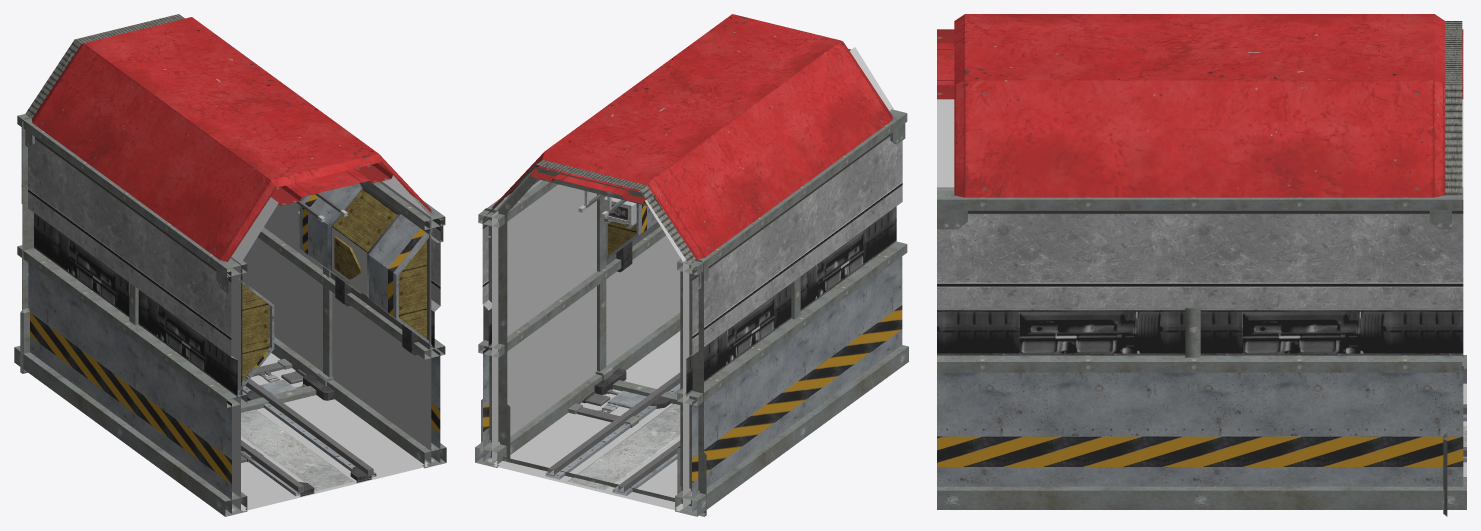
Rendered from Ob_TunnelWithArrows_RC.fbx.
The picture shows the model from 3 angles, left to right: view 1: azimuth 30°, elevation 25°; view 2: azimuth 150°, elevation 25°; view 3: azimuth 270°, elevation 25°; orthographic projection. The views are drawn at different scales.
Visible parts, largest first — view 1: Ob_TunnelWithArrows_RC; view 2: Ob_TunnelWithArrows_RC; view 3: Ob_TunnelWithArrows_RC.
Part boxes in pixels (box(x1,y1,x2,y2)): Ob_TunnelWithArrows_RC: box(14, 14, 446, 516); Ob_TunnelWithArrows_RC: box(475, 14, 908, 516); Ob_TunnelWithArrows_RC: box(937, 14, 1466, 516).
Bounding box in the file's own units: 2493 × 3395 × 4051.
